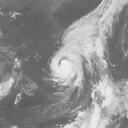cyclone: (48, 48, 86, 87)
